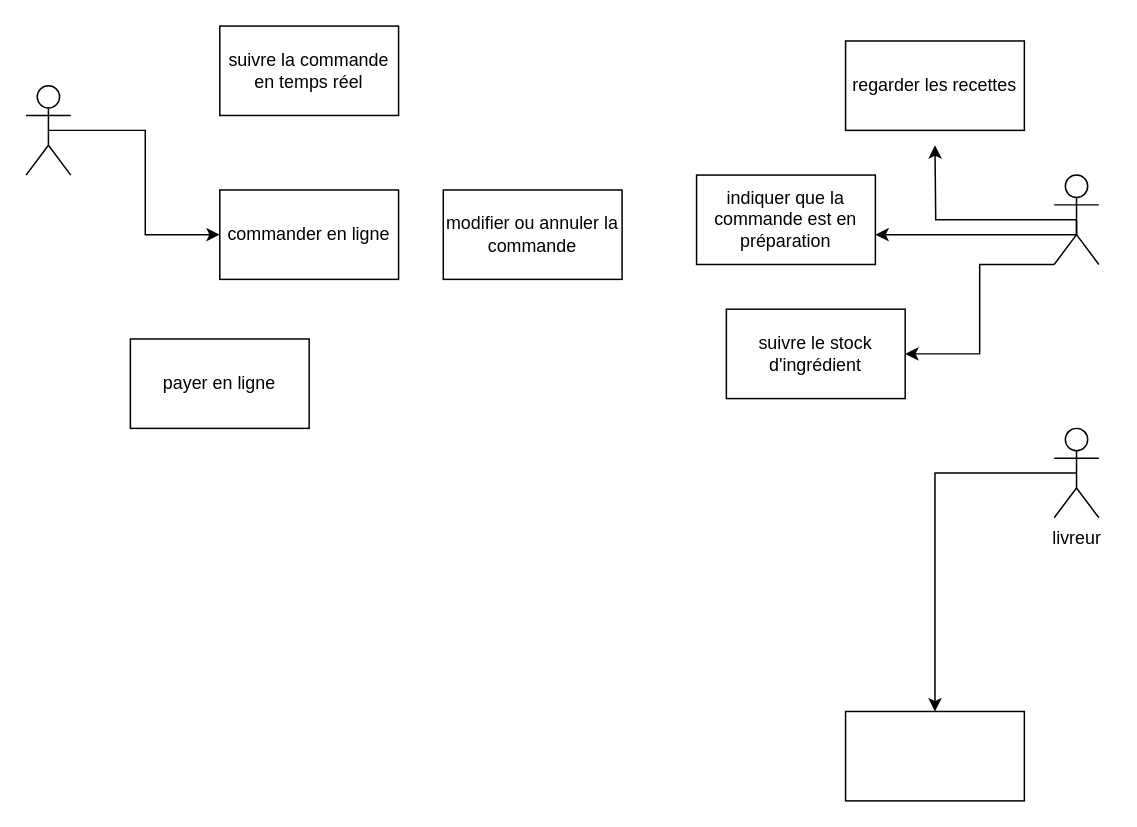
Image size: 1137x827. Some labels were removed from this diagram. The centre of each missing label's shape, as x and y in pixels:
client: the point at 48,129
indiquer que la livraison est effectuée: the point at 934,755
pizzaiolo: the point at 1076,219
